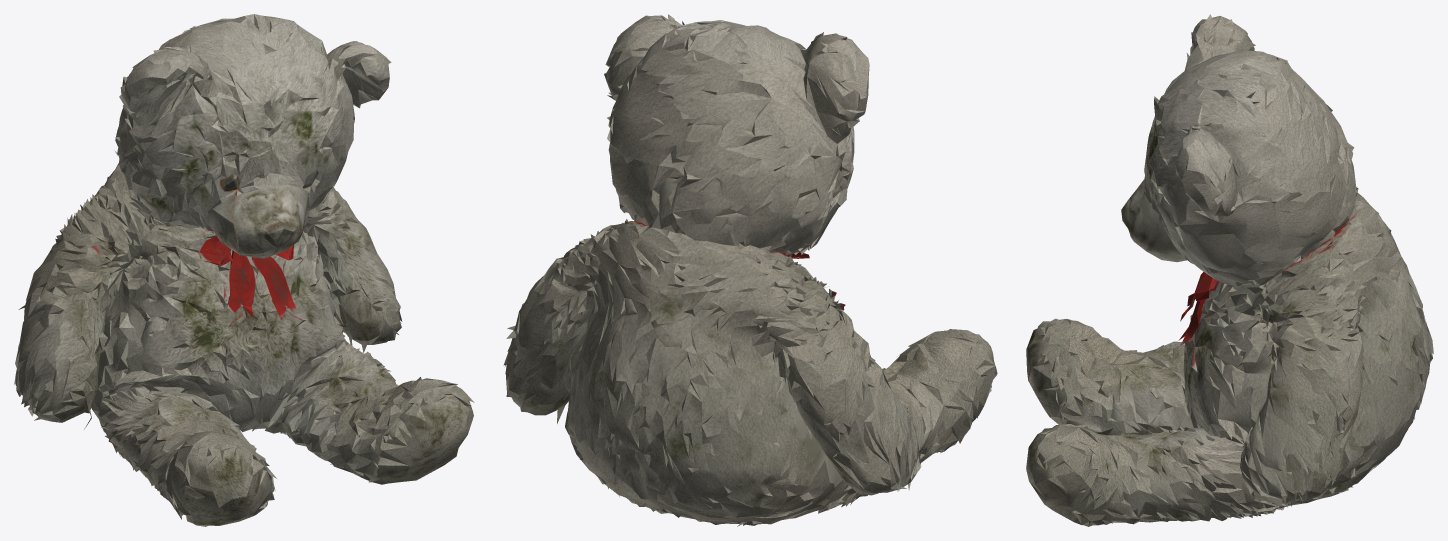
File: orsacchiotto_grande_meshy.glb
3 renders of one model, left to right at view 1: azimuth 30°, elevation 25°; view 2: azimuth 150°, elevation 25°; view 3: azimuth 270°, elevation 25°, orthographic. The views are drawn at different scales.
Visible parts, largest first — view 1: Mesh_0; view 2: Mesh_0; view 3: Mesh_0.
Part boxes in pixels (x1,y1,x2,y2): Mesh_0: [14, 14, 474, 526]; Mesh_0: [503, 14, 997, 526]; Mesh_0: [1026, 14, 1433, 526].
Size of the model in its own units: 1.72 by 1.91 by 1.66.
1 material, 1 textured.
